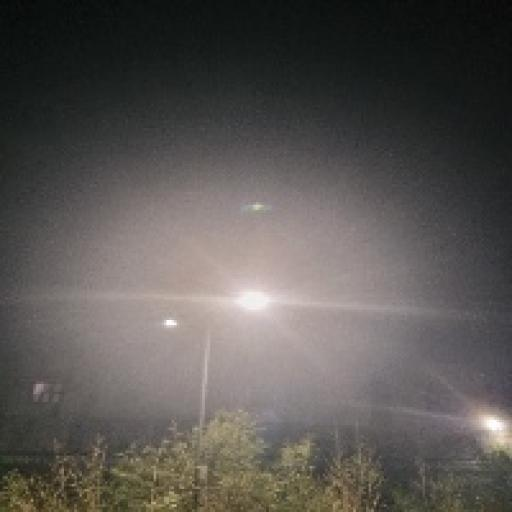Working: (230, 286, 276, 316), (476, 406, 508, 440), (156, 314, 184, 338)
